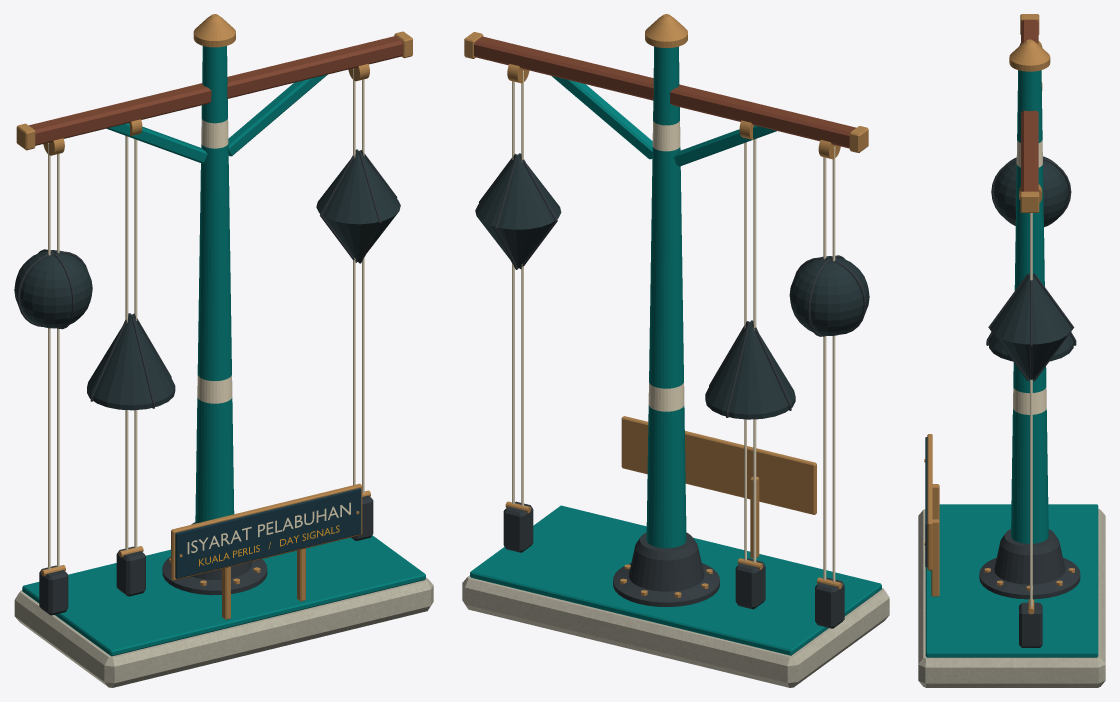
3 renders of one model, left to right at view 1: azimuth 30°, elevation 25°; view 2: azimuth 150°, elevation 25°; view 3: azimuth 270°, elevation 25°, orthographic. The views are drawn at different scales.
Visible parts, largest first — view 1: Pedestal stripe, Banded mast, Quayside ballast, Enamel plaque field, Signal yard, Running halyards, Hoisted cone, Hoisted diamond, Hoisted ball, Yard knees, Halyard deadweights, Shape battens (+7 smaller); view 2: Pedestal stripe, Banded mast, Quayside ballast, Signal yard, Beaded plaque rim, Running halyards, Flanged mast shoe, Hoisted cone, Hoisted diamond, Hoisted ball, Halyard deadweights, Yard knees (+5 smaller); view 3: Pedestal stripe, Banded mast, Quayside ballast, Flanged mast shoe, Hoisted diamond, Hoisted ball, Signal yard, Shape battens, Halyard deadweights, Mast truck, Legend feet, Running halyards (+4 smaller).
Part boxes in pixels (x1,y1,x2,y2): Pedestal stripe: [22, 535, 425, 656]; Banded mast: [195, 46, 234, 523]; Quayside ballast: [14, 577, 433, 687]; Enamel plaque field: [175, 488, 361, 578]; Signal yard: [29, 36, 403, 145]; Running halyards: [48, 68, 364, 569]; Hoisted cone: [87, 314, 175, 410]; Hoisted diamond: [316, 150, 400, 262]; Hoisted ball: [14, 250, 92, 328]; Yard knees: [106, 74, 327, 163]; Halyard deadweights: [39, 495, 373, 615]; Shape battens: [17, 149, 397, 408]; Pedestal stripe: [470, 505, 881, 655]; Banded mast: [646, 46, 686, 548]; Quayside ballast: [462, 575, 889, 687]; Signal yard: [474, 36, 856, 148]; Beaded plaque rim: [621, 416, 816, 514]; Running halyards: [512, 71, 835, 582]; Flanged mast shoe: [613, 532, 719, 606]; Hoisted cone: [705, 321, 795, 419]; Hoisted diamond: [475, 154, 561, 268]; Hoisted ball: [789, 256, 869, 335]; Halyard deadweights: [503, 501, 844, 628]; Yard knees: [552, 76, 776, 166]; Pedestal stripe: [925, 504, 1098, 657]; Banded mast: [1011, 70, 1048, 543]; Quayside ballast: [918, 509, 1105, 687]; Flanged mast shoe: [979, 529, 1080, 599]; Hoisted diamond: [991, 274, 1071, 380]; Hoisted ball: [994, 156, 1068, 227]; Signal yard: [1021, 19, 1038, 191]; Shape battens: [986, 158, 1076, 380]; Halyard deadweights: [1019, 602, 1042, 647]; Mast truck: [1009, 39, 1050, 71]; Legend feet: [931, 484, 939, 596]; Running halyards: [1030, 213, 1032, 606].
Bounding box in the file's own units: 2.92 × 4.24 × 1.26.
Materials: 9 (1 with a texture image).
